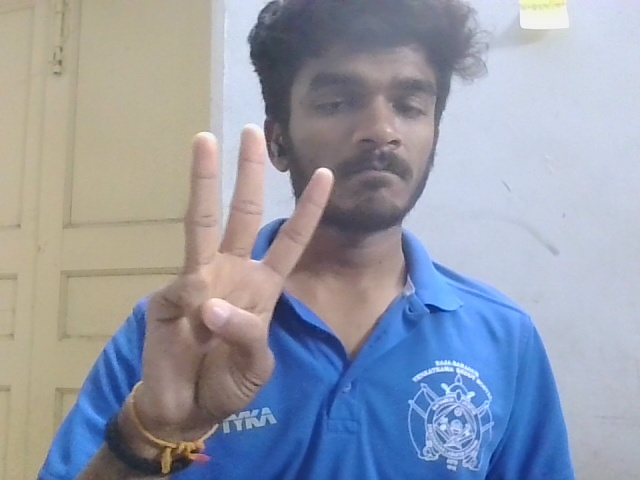water: (138, 103, 342, 443)
